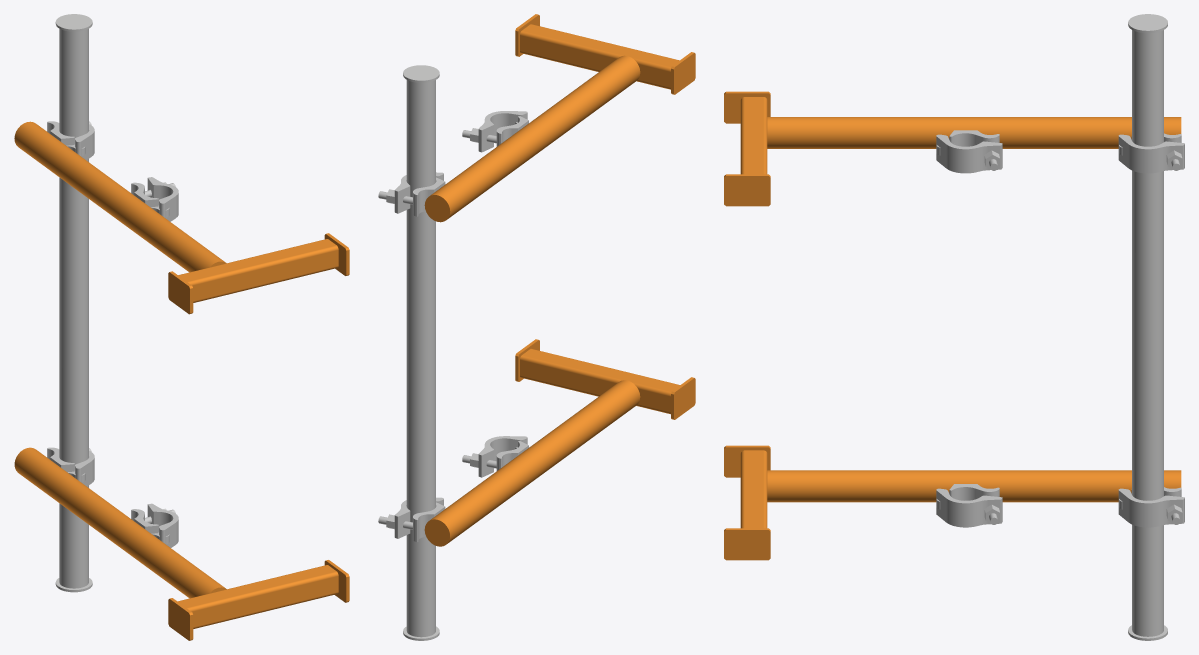
Rendered from tie-frame.glb.
3 views of the same model, side by side, from view 1: azimuth 30°, elevation 25°; view 2: azimuth 150°, elevation 25°; view 3: azimuth 270°, elevation 25° (orthographic). The views are drawn at different scales.
Bounding box in the file's own units: 0.299 × 1.01 × 0.6902.
